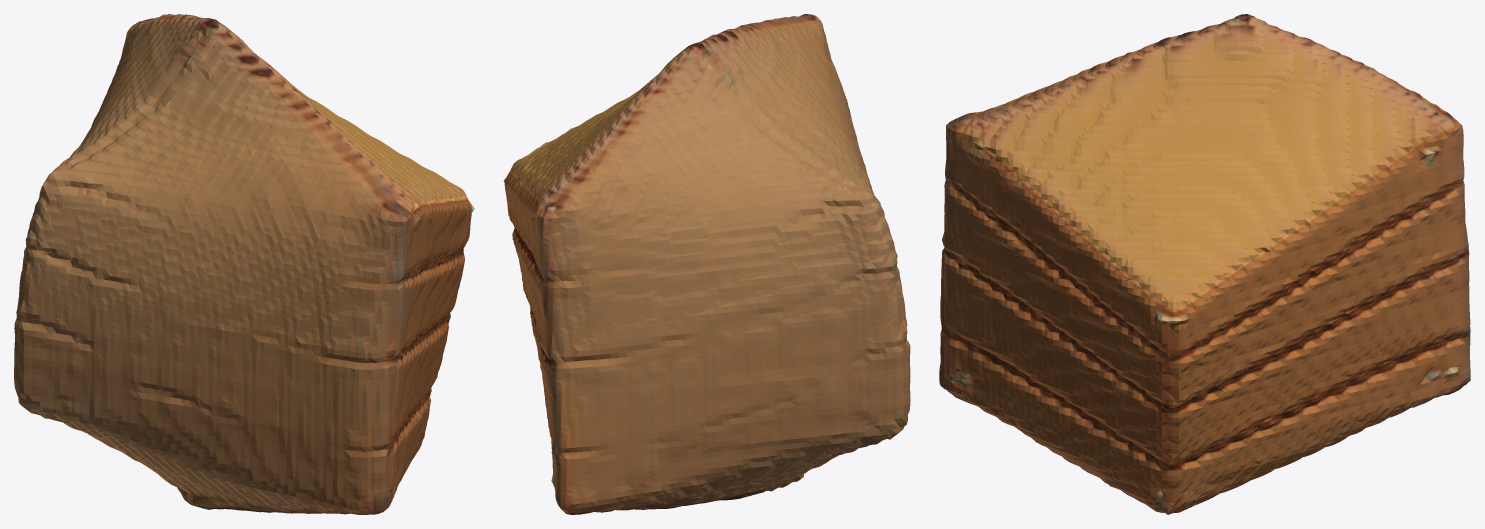
3 renders of one model, left to right at view 1: azimuth 30°, elevation 25°; view 2: azimuth 150°, elevation 25°; view 3: azimuth 270°, elevation 25°, orthographic. The views are drawn at different scales.
Visible parts, largest first — view 1: mesh.obj; view 2: mesh.obj; view 3: mesh.obj.
Part boxes in pixels (box(x1,y1,x2,y2)): mesh.obj: box(14, 14, 474, 514); mesh.obj: box(503, 14, 910, 514); mesh.obj: box(939, 14, 1470, 514).
Bounding box in the file's own units: 0.9949 × 1.02 × 1.13.
1 material, 1 textured.
